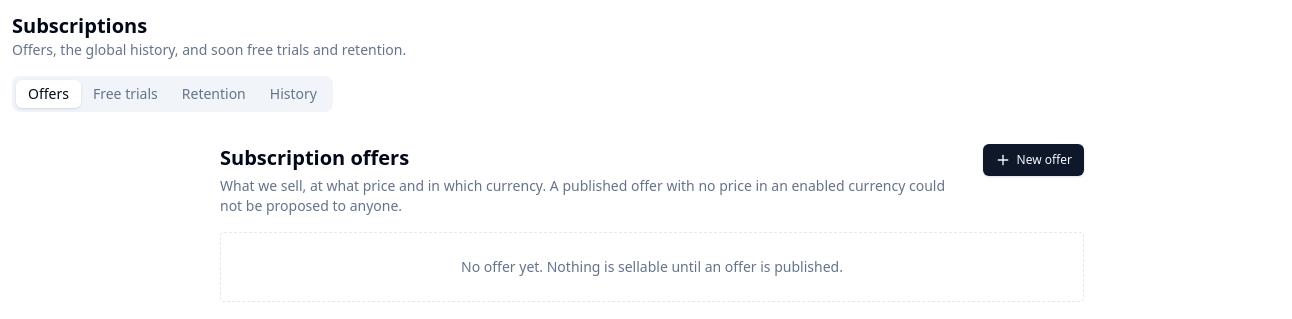
Test case: AdminAbonnements › marque l'entrée d'exploitation — la vue admin est complète, pas celle du client
Click the tab "History" at (293, 94), box [258,80,329,108]
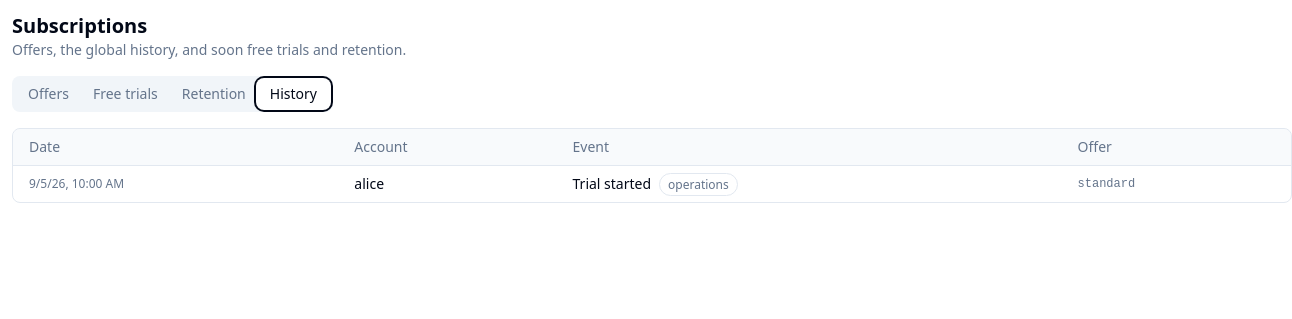
expect the text "operations" is shown: met, box [659,173,738,196]
